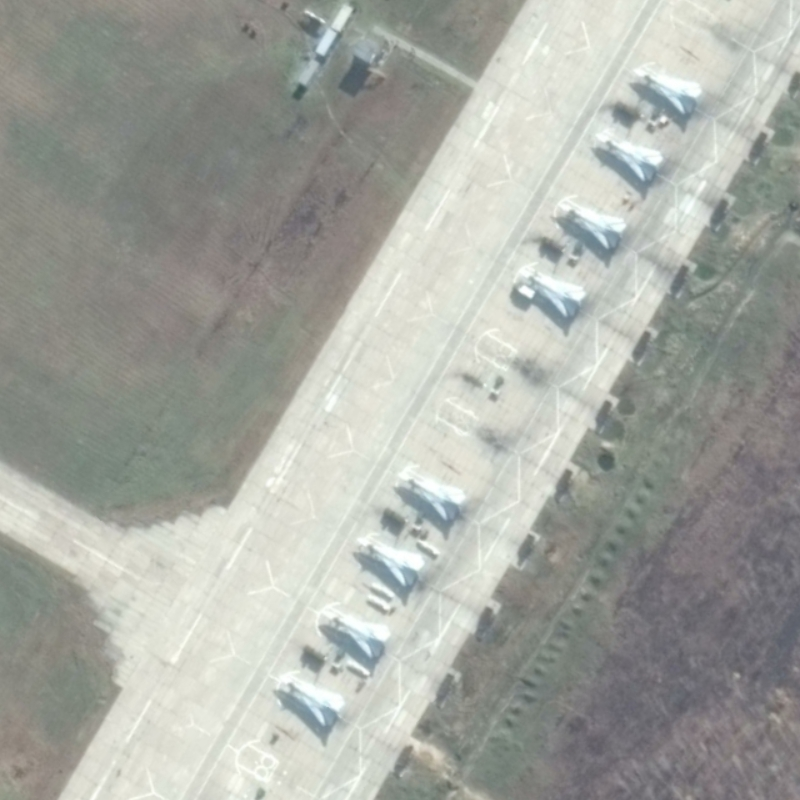A20: (277, 671, 348, 728), (354, 536, 427, 588), (395, 471, 469, 522), (593, 131, 665, 183), (322, 608, 393, 660), (631, 67, 704, 117), (559, 201, 628, 251), (521, 269, 588, 319)
